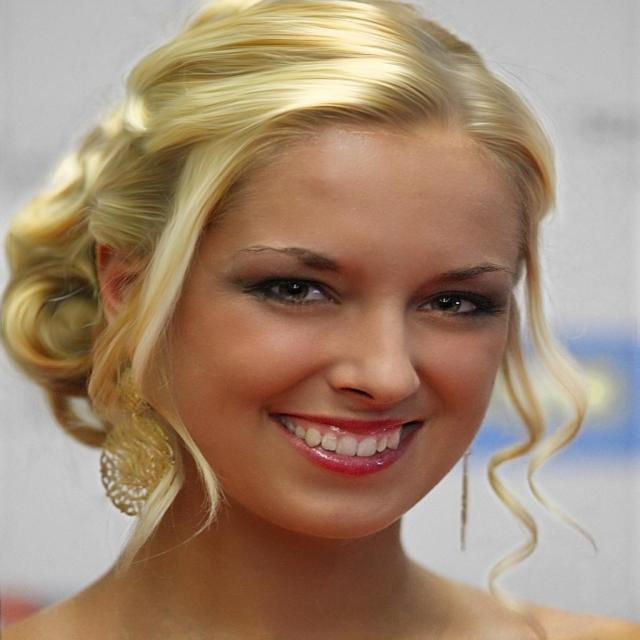Face: (141, 108, 532, 543)
